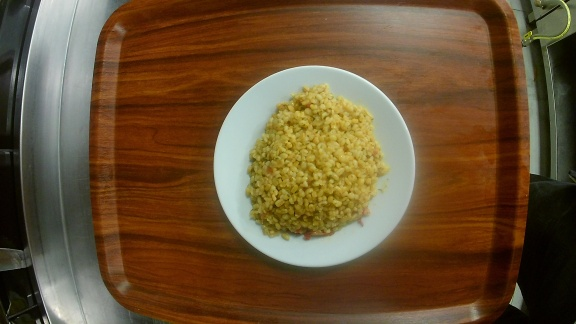bulgur: (213, 65, 416, 269)
